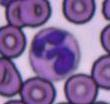N: (29, 27, 80, 81)
